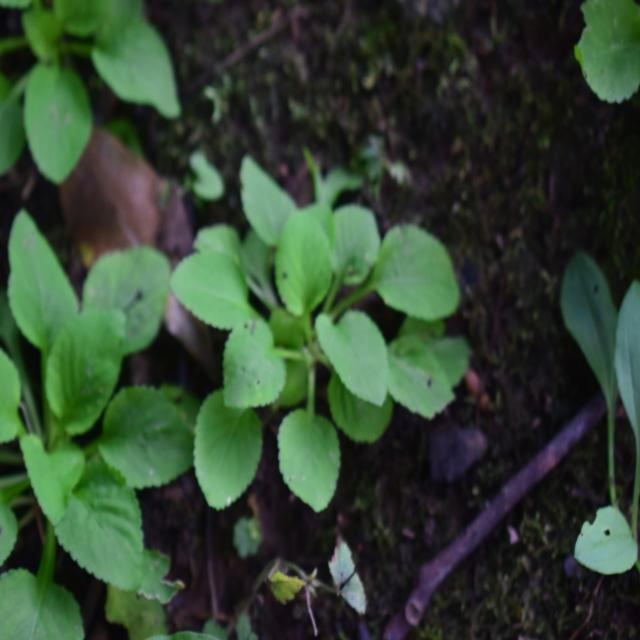Viola: (162, 144, 484, 516)
